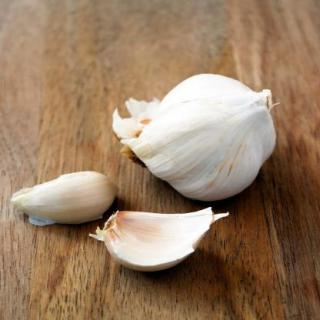Bawang Putih: (124, 74, 279, 203), (104, 212, 224, 273), (13, 172, 119, 226)
